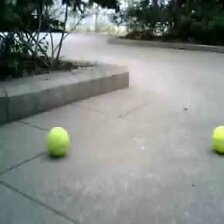tennis: (45, 127, 69, 157), (211, 126, 224, 155)
